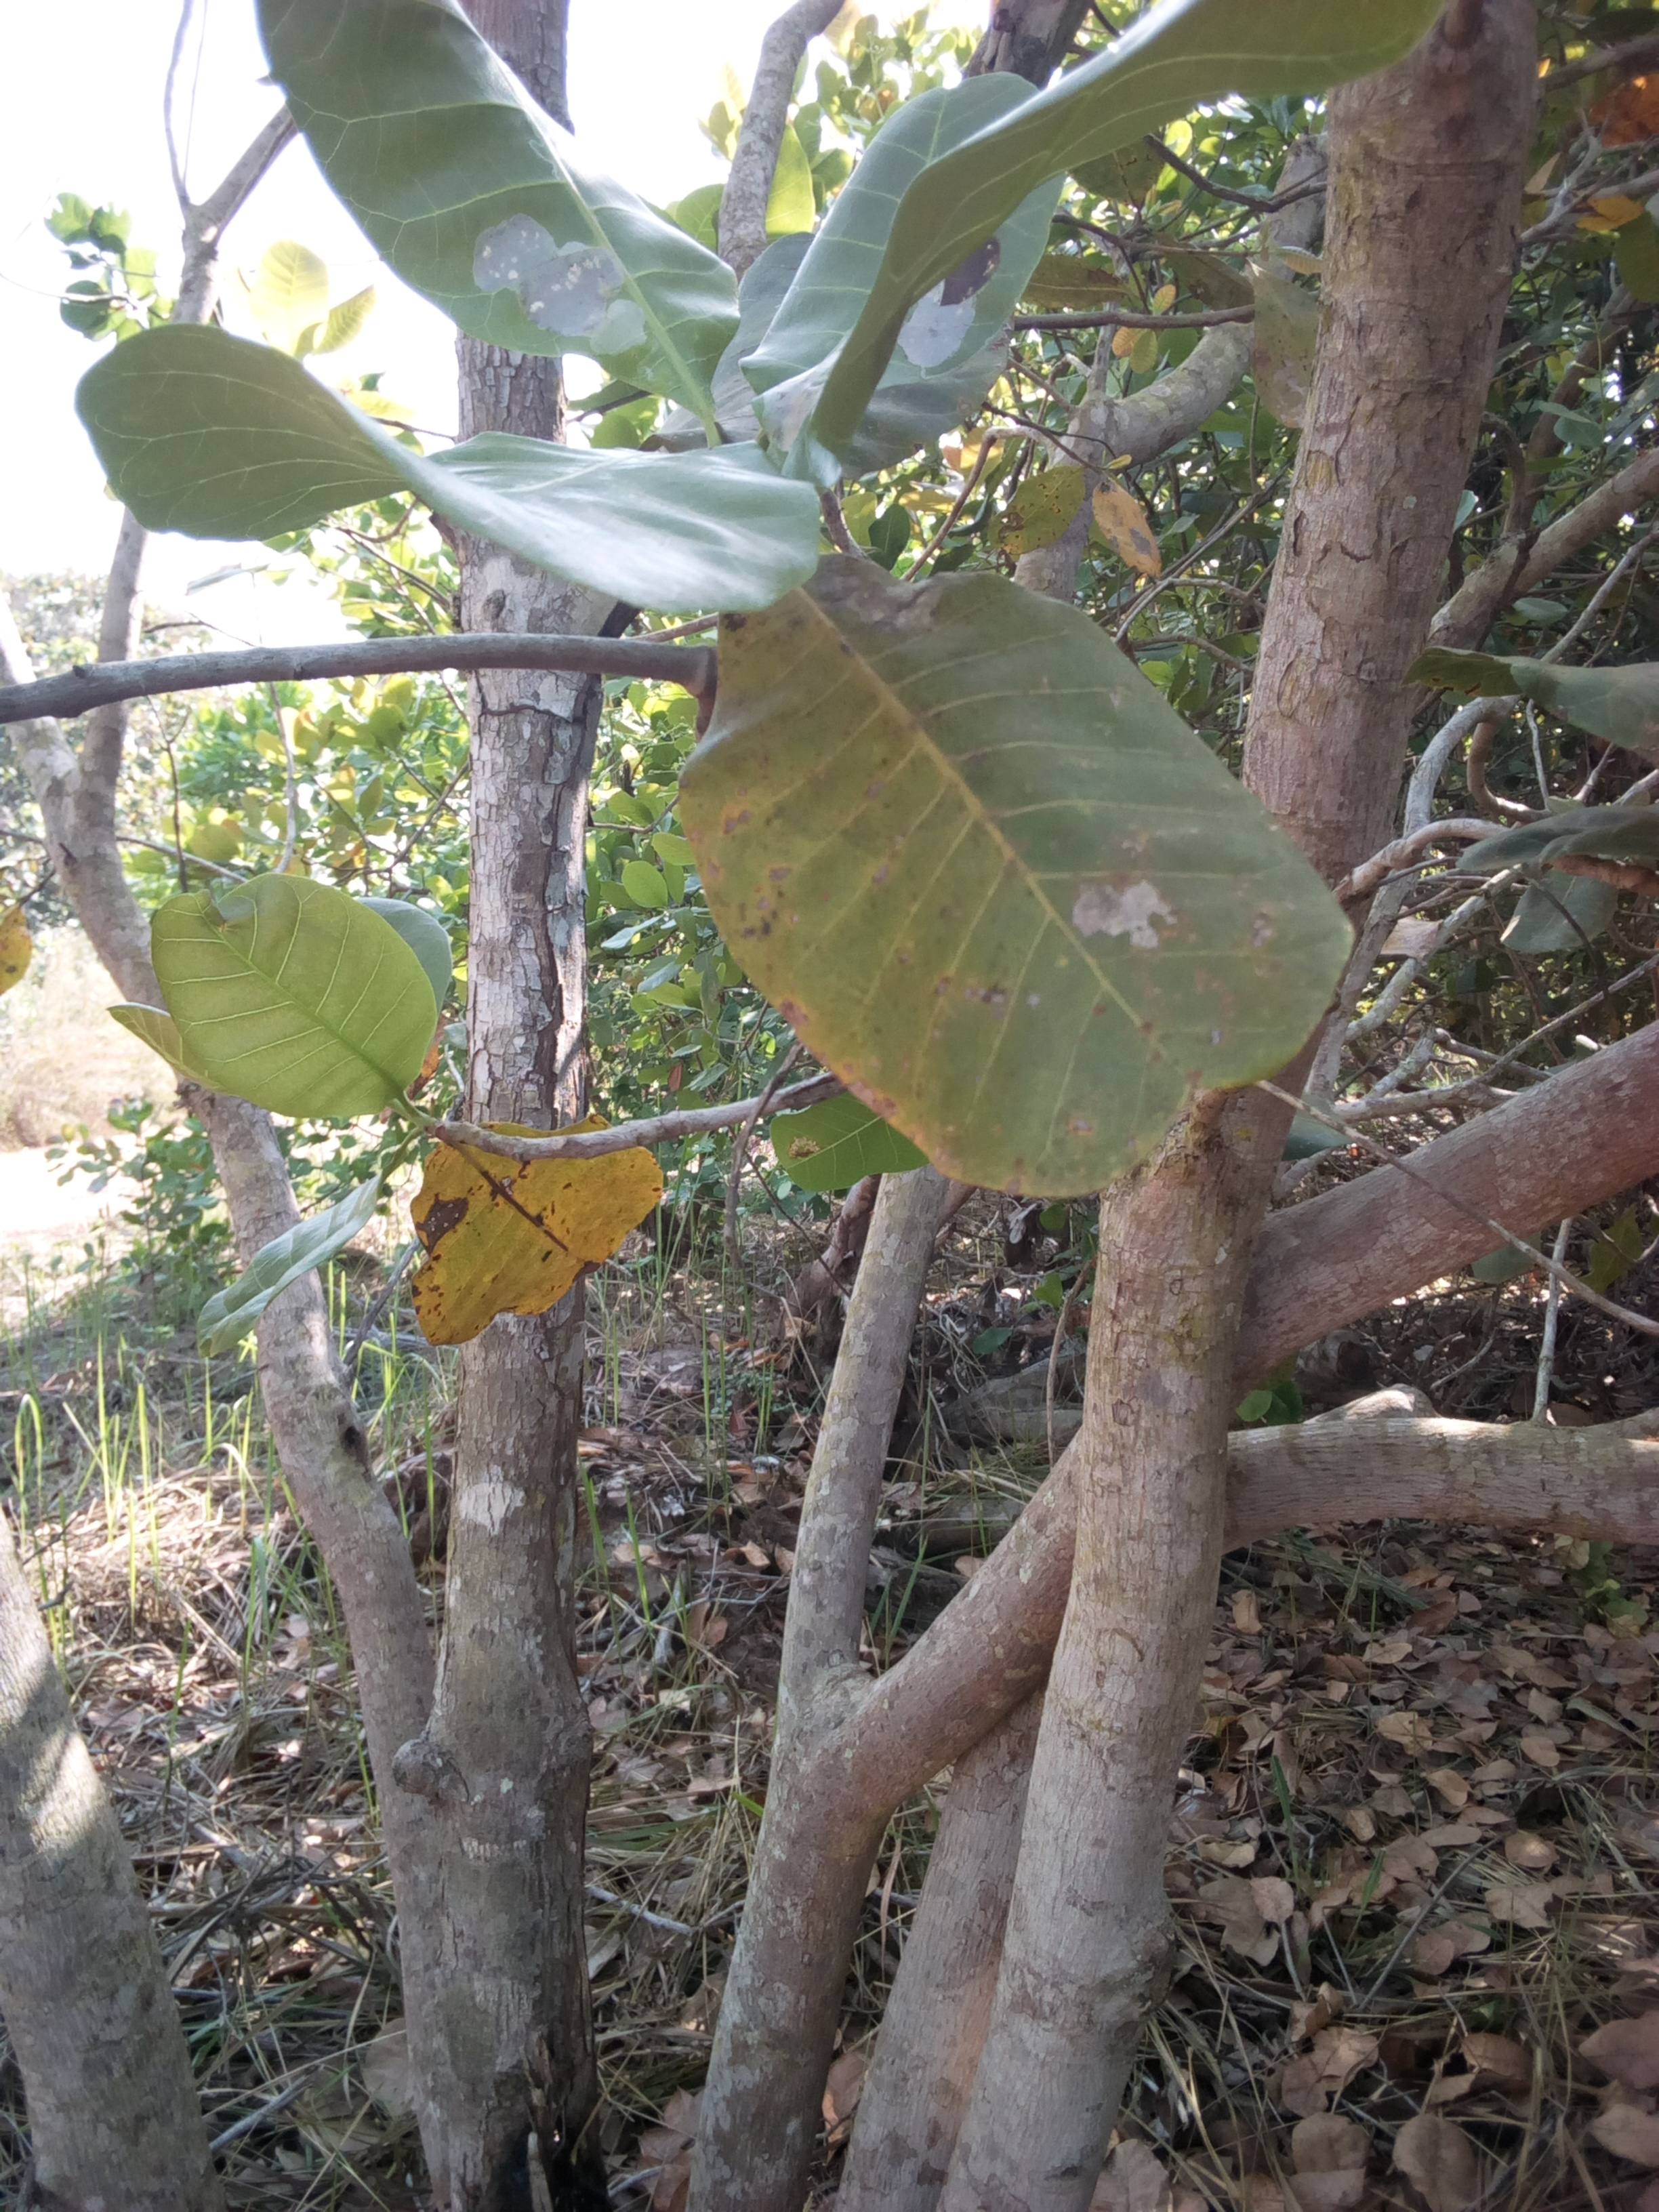Alternariose: (667, 543, 1338, 1198), (416, 1137, 650, 1353)
